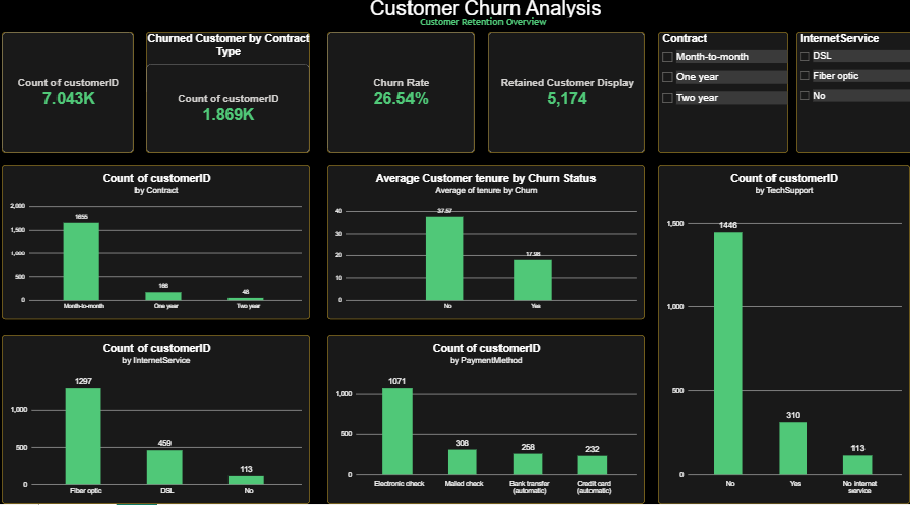

Layout of this report page (visuals, bound fields, positions):
{"tool":"powerbi","page":{"name":"Page 1","canvas":[1920,1080],"ordinal":0},"visuals":[{"type":"cardVisual","fields":{"Data":["CountNonNull(Telco-Customer-Churn-Cleaned.customerID)"]},"box":[10.6,74.4,276.4,257.2],"z":0},{"type":"cardVisual","title":"Churned Customer by Contract Type","fields":{"Data":["CountNonNull(Telco-Customer-Churn-Cleaned.customerID)"]},"box":[310.4,74.4,342.3,257.2],"z":1},{"type":"clusteredColumnChart","fields":{"Category":["Telco-Customer-Churn-Cleaned.Contract"],"Y":["CountNonNull(Telco-Customer-Churn-Cleaned.customerID)"]},"box":[10.6,357.2,642,329.5],"z":2},{"type":"clusteredColumnChart","fields":{"Category":["Telco-Customer-Churn-Cleaned.InternetService"],"Y":["CountNonNull(Telco-Customer-Churn-Cleaned.customerID)"]},"box":[10.6,720.7,642,359.3],"z":3},{"type":"clusteredColumnChart","fields":{"Category":["Telco-Customer-Churn-Cleaned.PaymentMethod"],"Y":["CountNonNull(Telco-Customer-Churn-Cleaned.customerID)"]},"box":[686.7,720.7,663.3,359.3],"z":4},{"type":"clusteredColumnChart","fields":{"Category":["Telco-Customer-Churn-Cleaned.TechSupport"],"Y":["CountNonNull(Telco-Customer-Churn-Cleaned.customerID)"]},"box":[1377.6,357.2,525.1,722.8],"z":5},{"type":"clusteredColumnChart","title":"Average Customer tenure by Churn Status","fields":{"Category":["Telco-Customer-Churn-Cleaned.Churn"],"Y":["Avg(Telco-Customer-Churn-Cleaned.tenure)"]},"box":[686.7,357.2,663.3,329.5],"z":6},{"type":"cardVisual","fields":{"Data":["Telco-Customer-Churn-Cleaned.Churn Rate"]},"box":[686.7,74.4,310.4,257.2],"z":7},{"type":"cardVisual","fields":{"Data":["Telco-Customer-Churn-Cleaned.Retained Customer Display"]},"box":[1024.7,74.4,325.3,257.2],"z":8},{"type":"slicer","fields":{"Values":["Telco-Customer-Churn-Cleaned.Contract"]},"box":[1377.6,74.4,270,257.2],"z":9},{"type":"slicer","fields":{"Values":["Telco-Customer-Churn-Cleaned.InternetService"]},"box":[1664.6,74.4,255.1,257.2],"z":10},{"type":"textbox","box":[0,0,1919.8,42.5],"z":11},{"type":"textbox","box":[112.7,42.5,1807.1,31.9],"z":12}]}

Visuals, with their boxes in screenshot pixels (x1, y1, x2, y2), scaled from the page's 1920x1080 canvas onto the 910x505 screenshot:
cardVisual - CountNonNull(Telco-Customer-Churn-Cleaned.customerID): box(5, 35, 136, 155)
"Churned Customer by Contract Type" cardVisual: box(147, 35, 309, 155)
clusteredColumnChart - Telco-Customer-Churn-Cleaned.Contract x CountNonNull(Telco-Customer-Churn-Cleaned.customerID): box(5, 167, 309, 321)
clusteredColumnChart - Telco-Customer-Churn-Cleaned.InternetService x CountNonNull(Telco-Customer-Churn-Cleaned.customerID): box(5, 337, 309, 504)
clusteredColumnChart - Telco-Customer-Churn-Cleaned.PaymentMethod x CountNonNull(Telco-Customer-Churn-Cleaned.customerID): box(325, 337, 640, 504)
clusteredColumnChart - Telco-Customer-Churn-Cleaned.TechSupport x CountNonNull(Telco-Customer-Churn-Cleaned.customerID): box(653, 167, 902, 504)
"Average Customer tenure by Churn Status" clusteredColumnChart: box(325, 167, 640, 321)
cardVisual - Telco-Customer-Churn-Cleaned.Churn Rate: box(325, 35, 473, 155)
cardVisual - Telco-Customer-Churn-Cleaned.Retained Customer Display: box(486, 35, 640, 155)
slicer - Telco-Customer-Churn-Cleaned.Contract: box(653, 35, 781, 155)
slicer - Telco-Customer-Churn-Cleaned.InternetService: box(789, 35, 909, 155)
textbox: box(0, 0, 909, 20)
textbox: box(53, 20, 909, 35)
